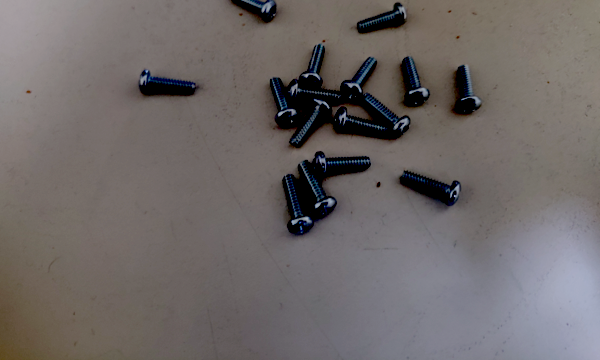shortscrew: (298, 161, 337, 218), (402, 171, 462, 207), (362, 94, 411, 138), (290, 97, 333, 147), (283, 174, 314, 234), (334, 107, 389, 137), (270, 77, 301, 128), (342, 57, 378, 100), (358, 1, 407, 32), (139, 69, 197, 94), (286, 79, 343, 104), (402, 57, 430, 106), (314, 152, 371, 176), (455, 65, 483, 113), (298, 42, 325, 89), (229, 0, 278, 22)
